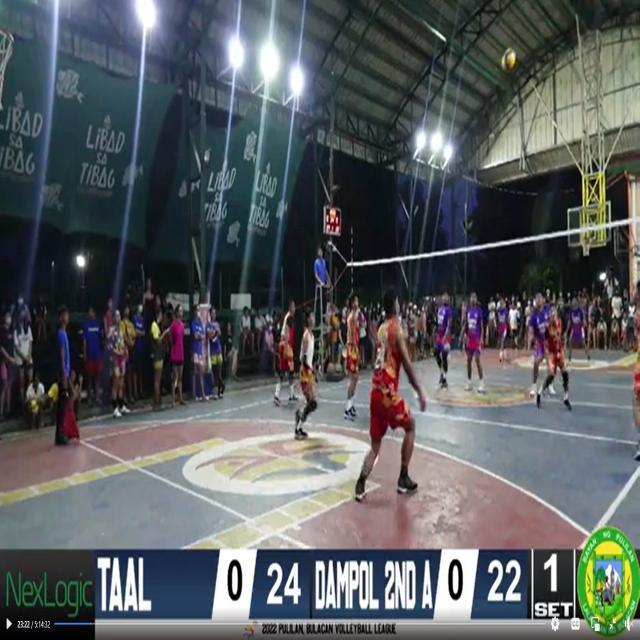volleyball: (500, 47, 517, 73)
